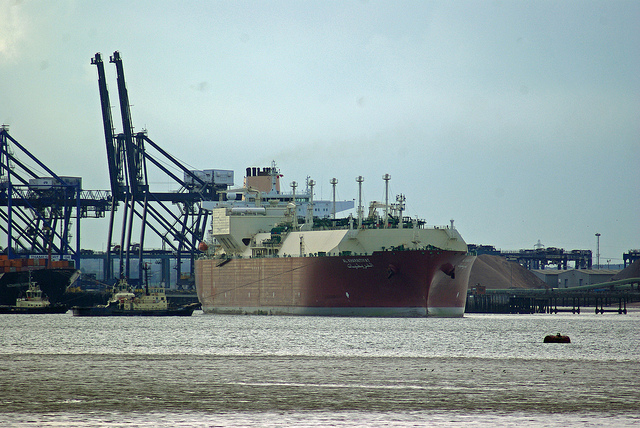LNG_ship: (196, 167, 475, 317)
tug_boat: (72, 281, 193, 318), (3, 272, 68, 318)
